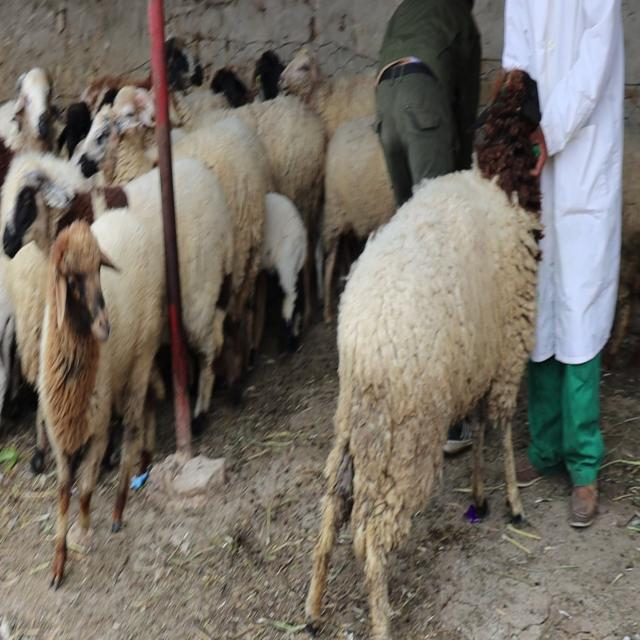Score_3: (305, 69, 544, 639)
